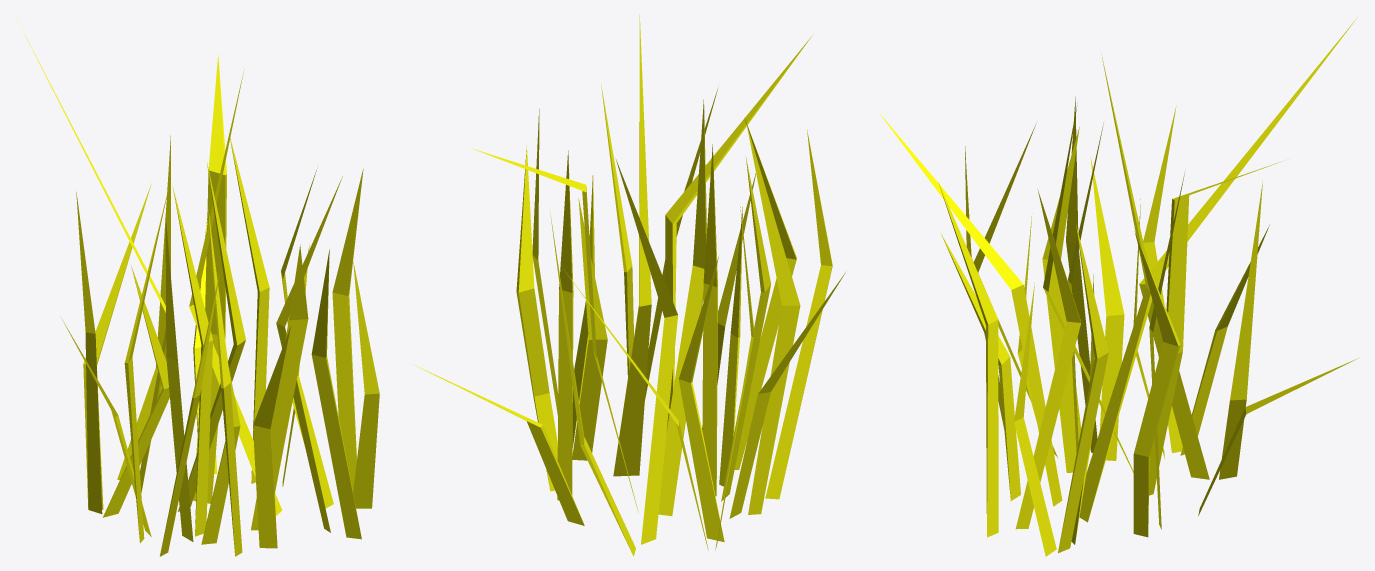
File: grass_g.glb
The picture shows the model from 3 angles, left to right: view 1: azimuth 30°, elevation 25°; view 2: azimuth 150°, elevation 25°; view 3: azimuth 270°, elevation 25°; orthographic projection. The views are drawn at different scales.
Parts seen in each view (by area): view 1: SM_Grass_01; view 2: SM_Grass_01; view 3: SM_Grass_01.
Part boxes in pixels (x1,y1,x2,y2): SM_Grass_01: [21, 28, 379, 556]; SM_Grass_01: [411, 14, 845, 556]; SM_Grass_01: [878, 17, 1358, 556].
Bounding box in the file's own units: 0.3107 × 0.4468 × 0.4288.
